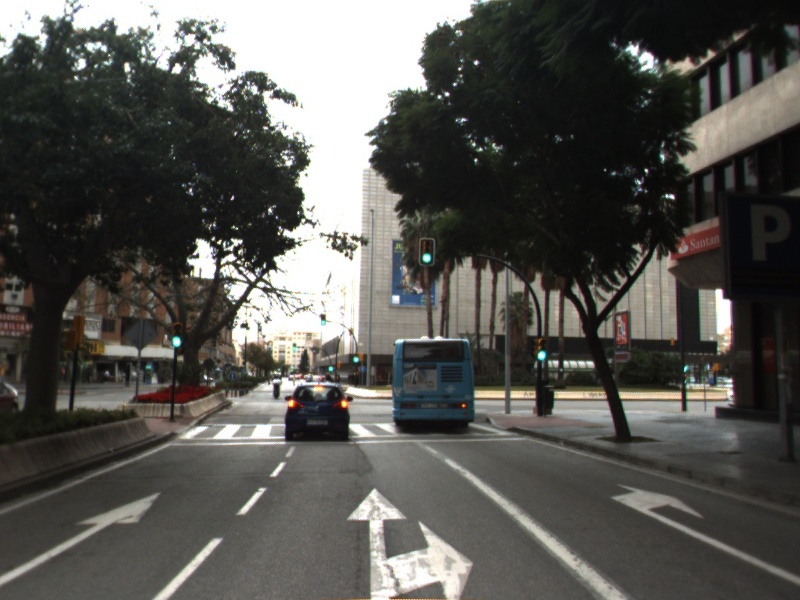RIGHT: (606, 480, 800, 585)
STRAIGHT: (1, 487, 165, 586)
STRAIGHT_RIGHT: (343, 483, 478, 600)
